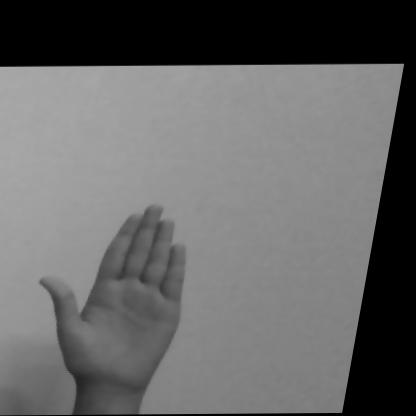palm: (21, 199, 245, 389)
